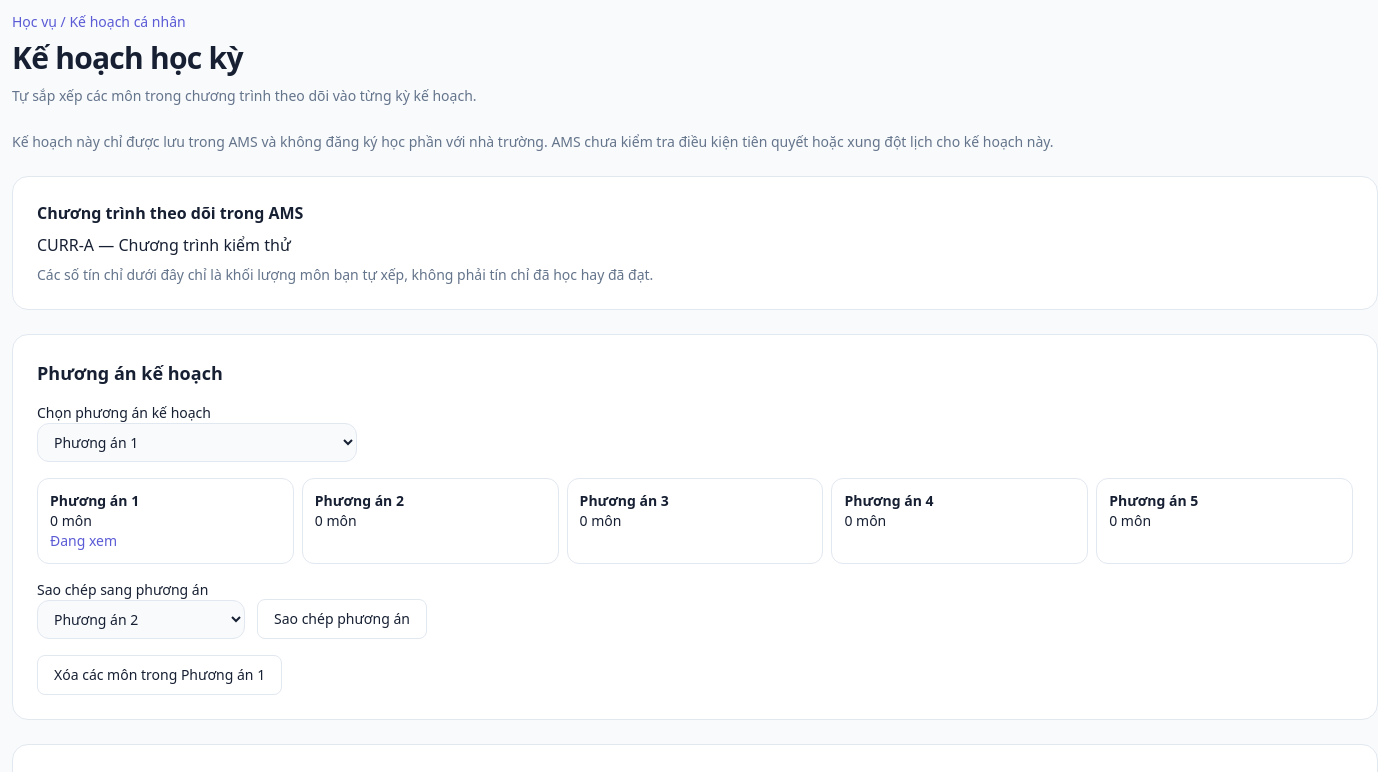
Test case: Personal study planner › switches among five scenarios without showing the previous plan during fetch
Select "Phương án 2" in the dropdown labelled "Chọn phương án kế hoạch" at (197, 442), box [37,423,357,462]
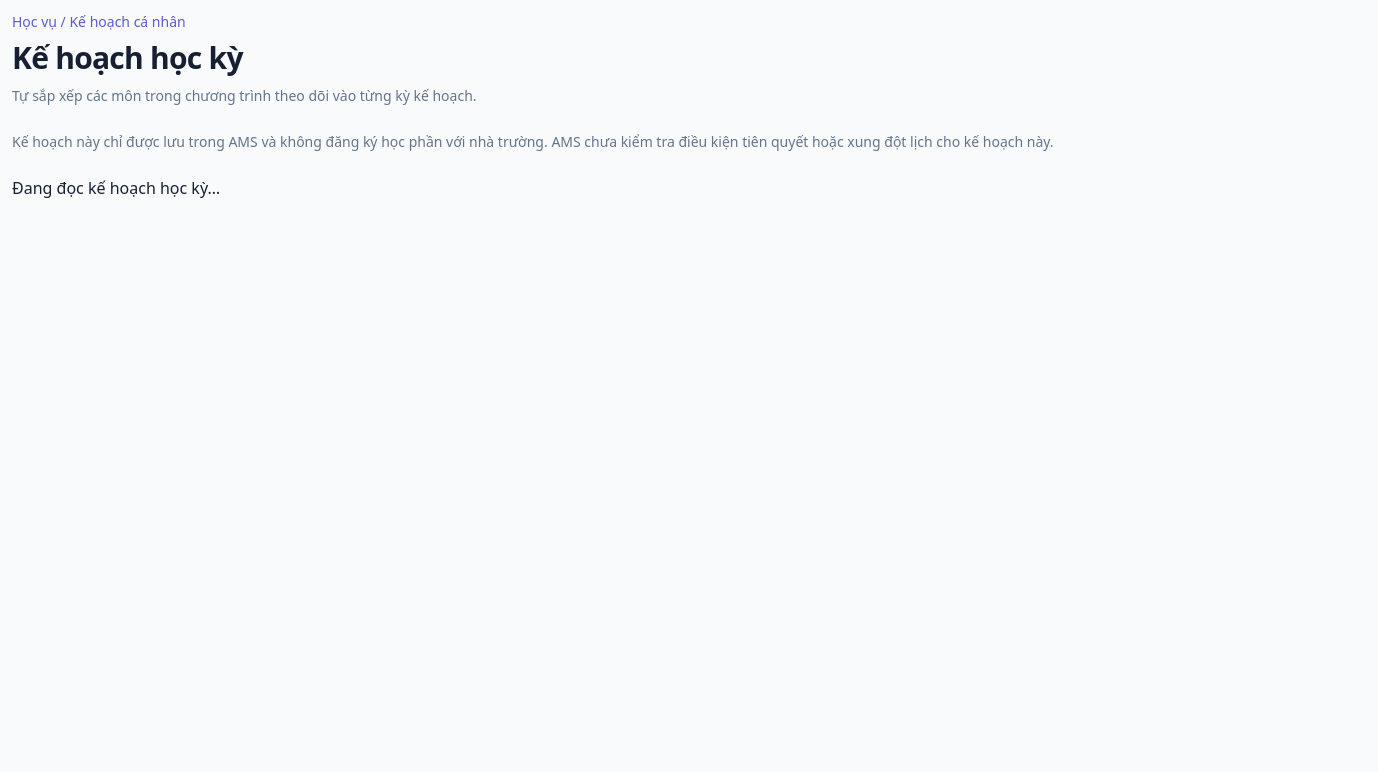
Now the message shows "Đang đọc kế hoạch học kỳ", box [12,177,220,199]
